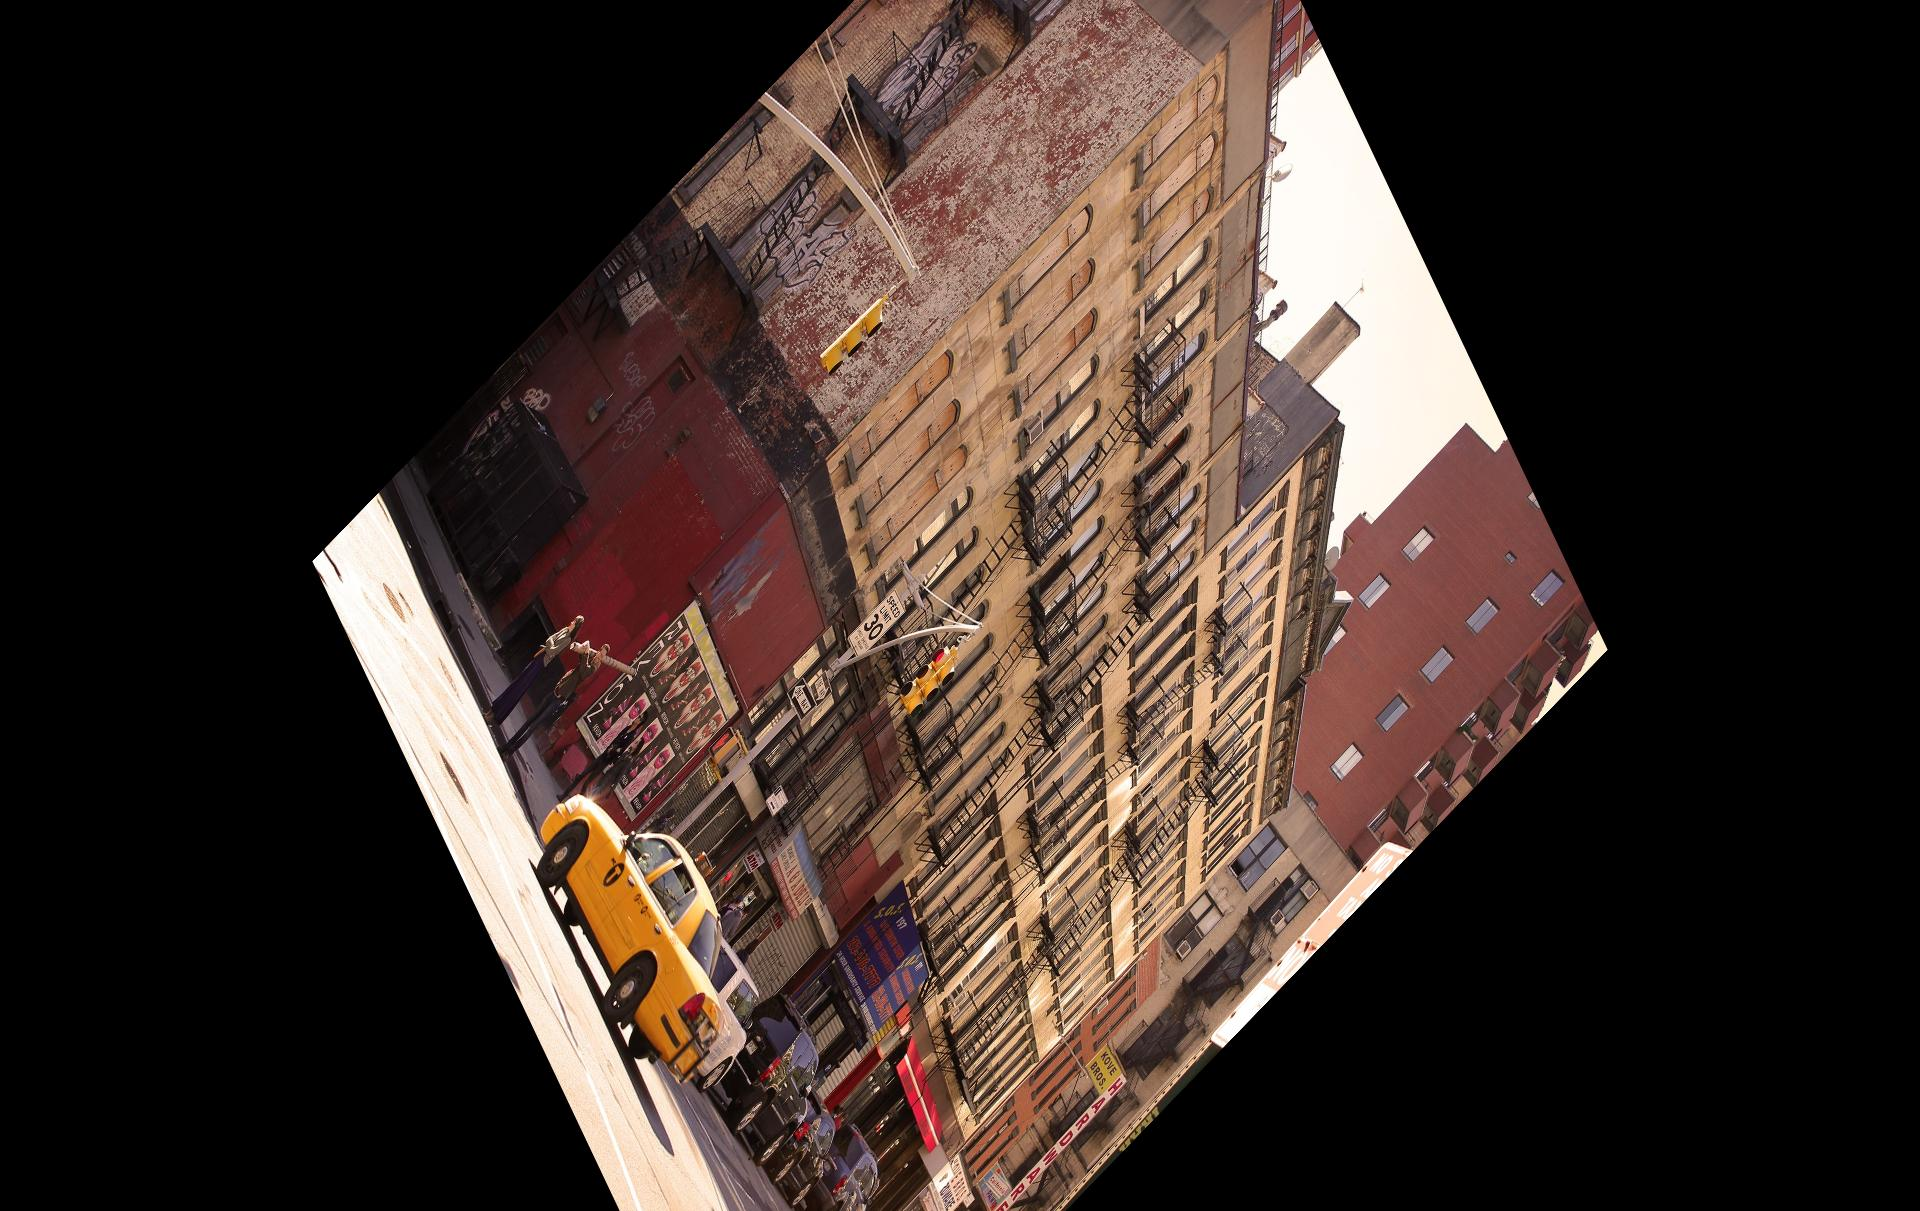taxi: (539, 795, 712, 1078)
